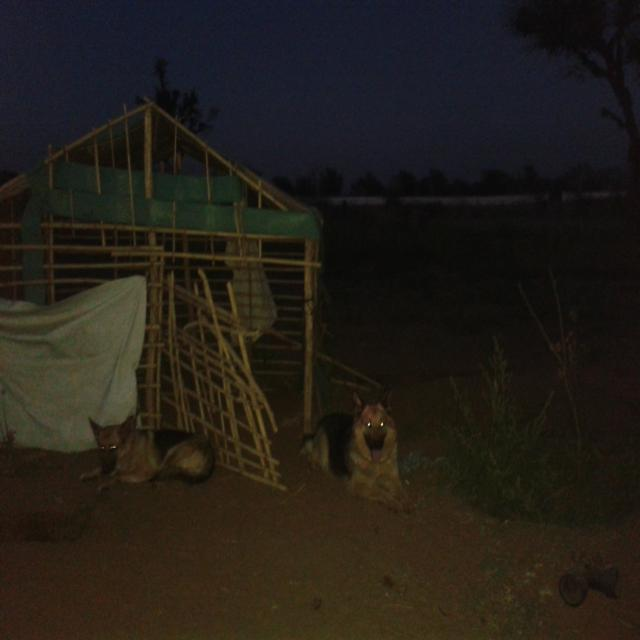Dog: (320, 387, 420, 534), (75, 413, 224, 497)
